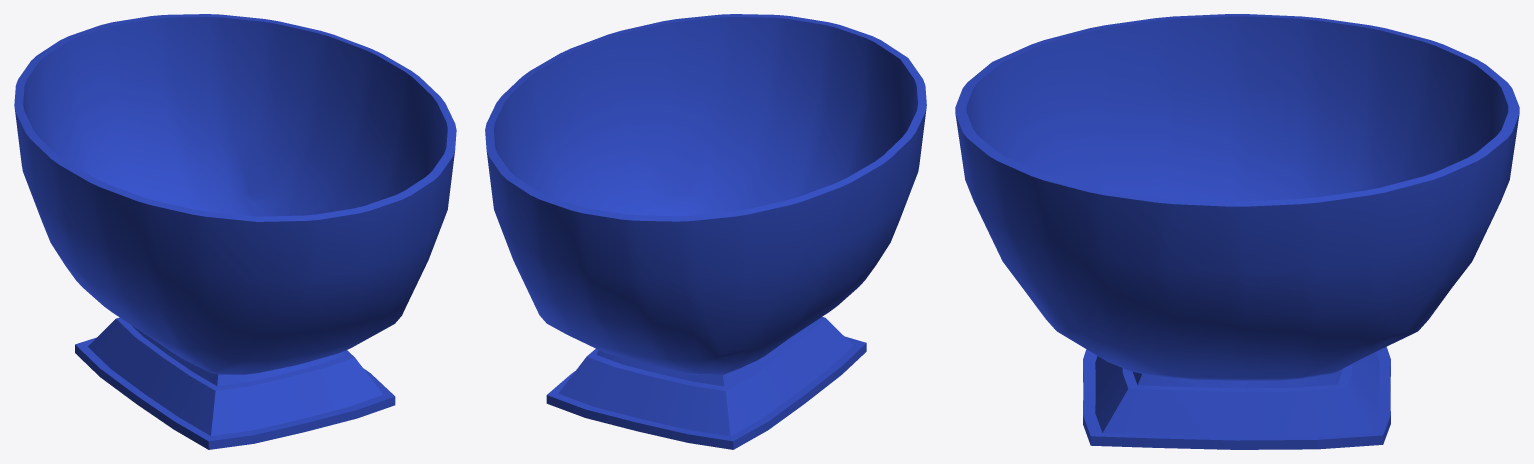
The model's file is MSH_bol.fbx.
The picture shows the model from 3 angles, left to right: view 1: azimuth 30°, elevation 25°; view 2: azimuth 150°, elevation 25°; view 3: azimuth 270°, elevation 25°; orthographic projection. The views are drawn at different scales.
Visible parts, largest first — view 1: bol_low; view 2: bol_low; view 3: bol_low.
Boxes of the visible parts, x1,y1,x2,y2 form: bol_low: [14, 14, 456, 449]; bol_low: [485, 14, 926, 449]; bol_low: [955, 14, 1519, 449].
Size of the model in its own units: 70.93 by 49.61 by 87.8.
